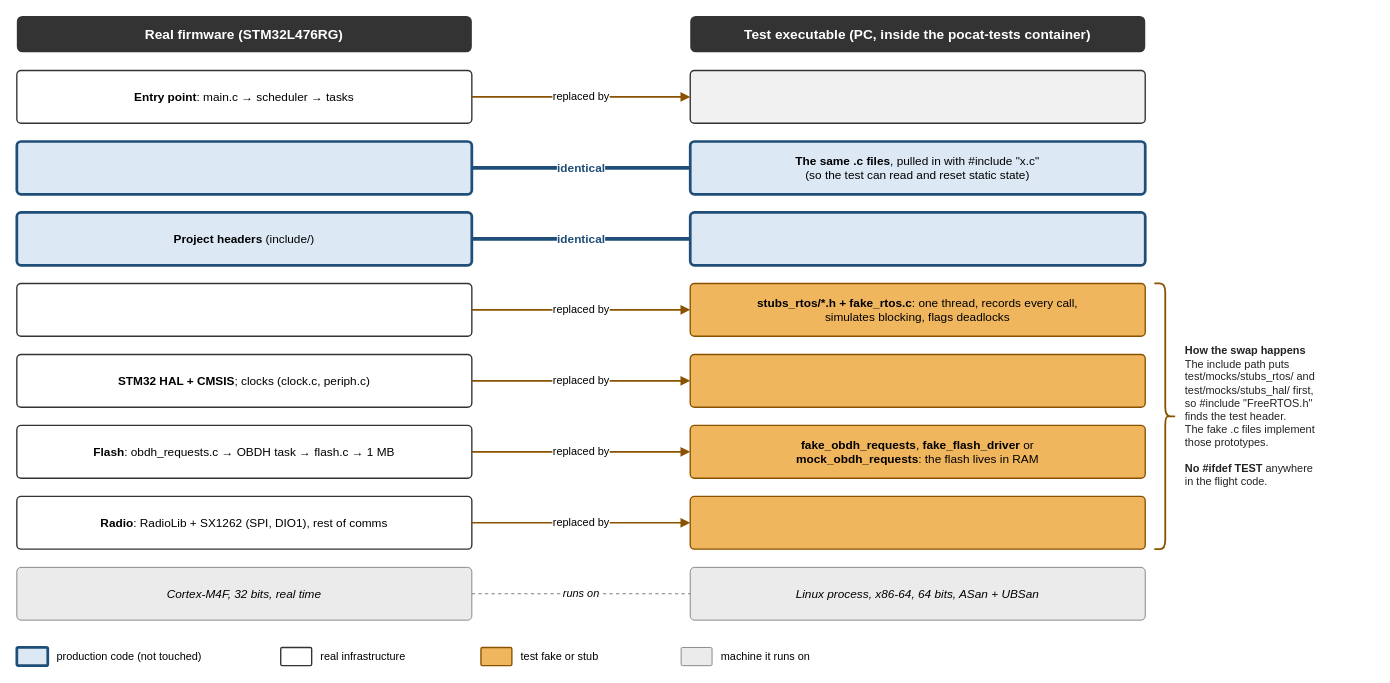
Image size: 1390x683. Some labels were removed from this diagram. Here are the shapes that lost their labels. From the top down, the centre of each, then its label:
At point (917, 96): "Suite test_<module>.c: main() from pocat_test_main.h + Unity".
At point (244, 167): "Production code : src/subsystems/*/*.c, src/utils/*.c".
At point (917, 238): "The same headers (include/)".
At point (244, 309): "FreeRTOS : scheduler, queues, notifications, event groups, timers".
At point (917, 380): "stubs_hal/*.h + fake_hal.c ; fake_clock.c".
At point (917, 522): "fake_link (programmable link) + fake_comms_env".
